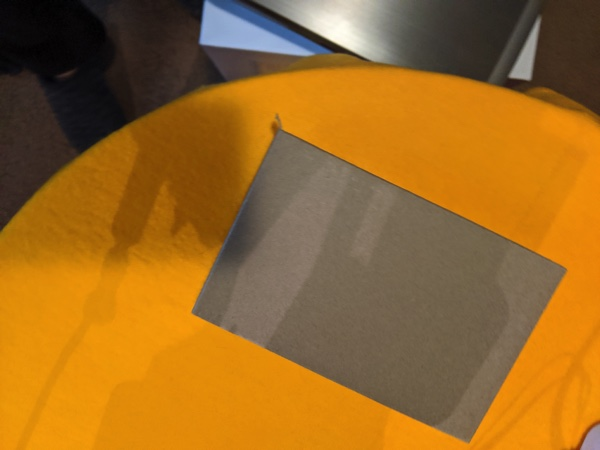cardboard: (170, 114, 574, 449)
